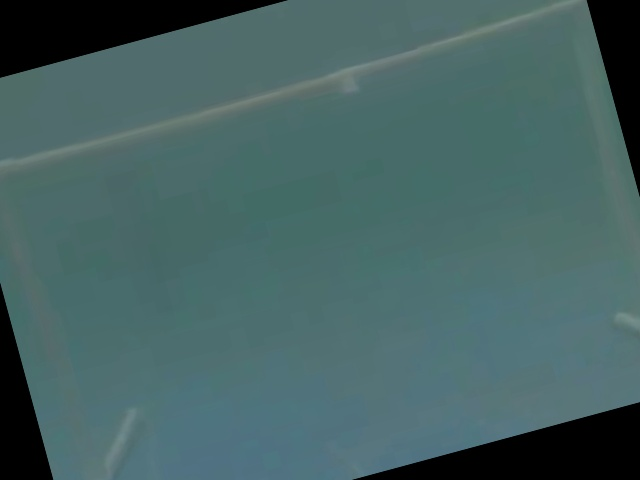gate: (2, 7, 640, 469)
